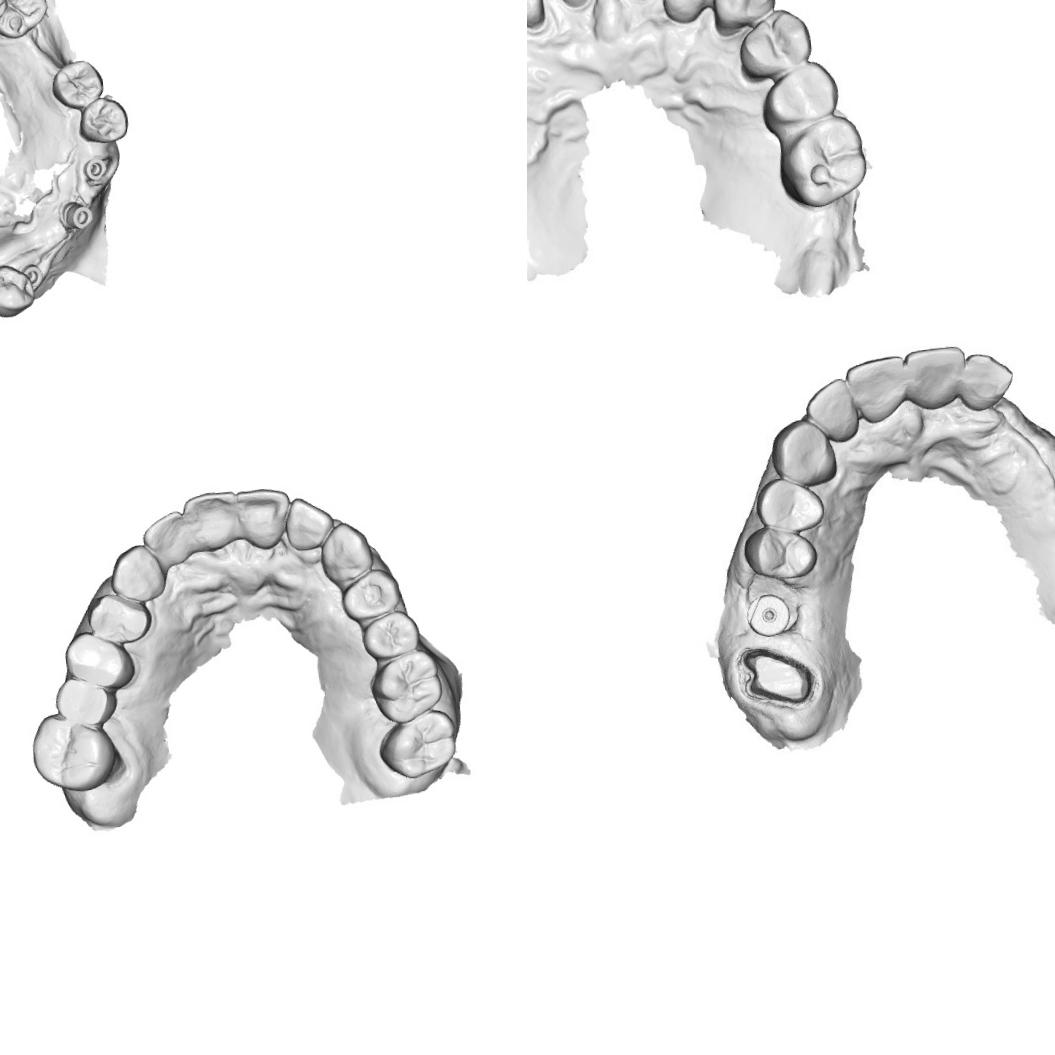canine: (766, 413, 842, 489), (314, 517, 376, 587), (104, 540, 168, 606), (704, 0, 777, 36)
crown: (736, 644, 816, 711)
implant: (740, 589, 797, 642), (58, 199, 95, 232), (80, 156, 110, 184), (22, 260, 45, 290)
incisor: (900, 341, 972, 413), (843, 354, 913, 422), (234, 481, 296, 555), (802, 374, 866, 442), (180, 486, 246, 550), (962, 348, 1018, 413), (280, 492, 338, 554), (139, 507, 198, 563), (650, 0, 725, 23)
molar: (773, 110, 872, 211), (27, 705, 124, 798), (374, 706, 464, 784), (365, 650, 447, 728), (49, 671, 121, 727), (0, 0, 51, 43)
premolar: (733, 5, 815, 86), (757, 59, 842, 134), (60, 626, 139, 694), (740, 522, 821, 586), (753, 472, 828, 536), (83, 587, 154, 646), (336, 565, 404, 624), (359, 607, 424, 664), (47, 56, 107, 114), (74, 94, 131, 146), (0, 260, 36, 320)
